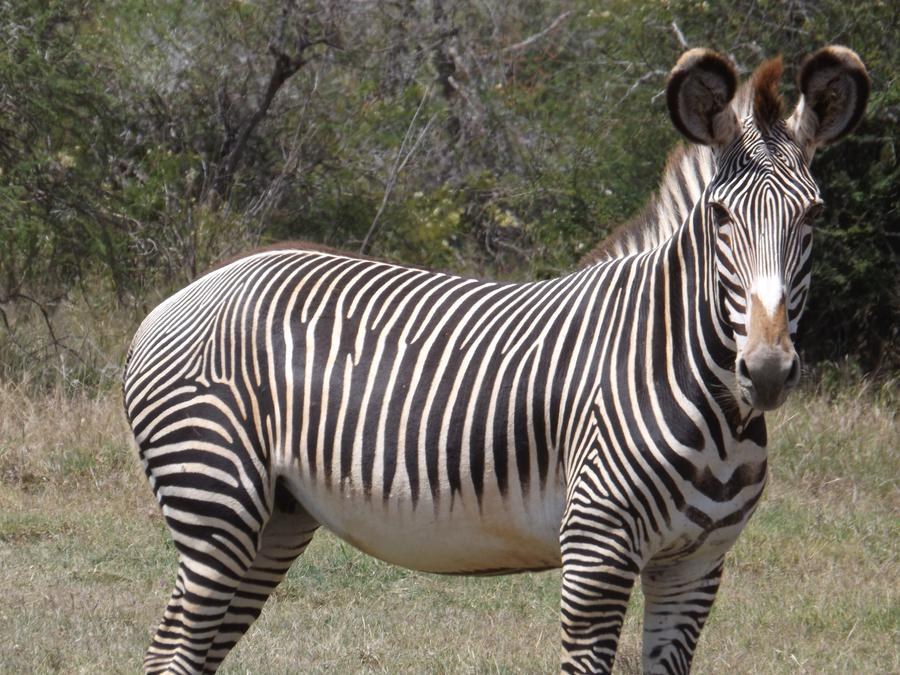zebra_grevys: (123, 221, 682, 564)
